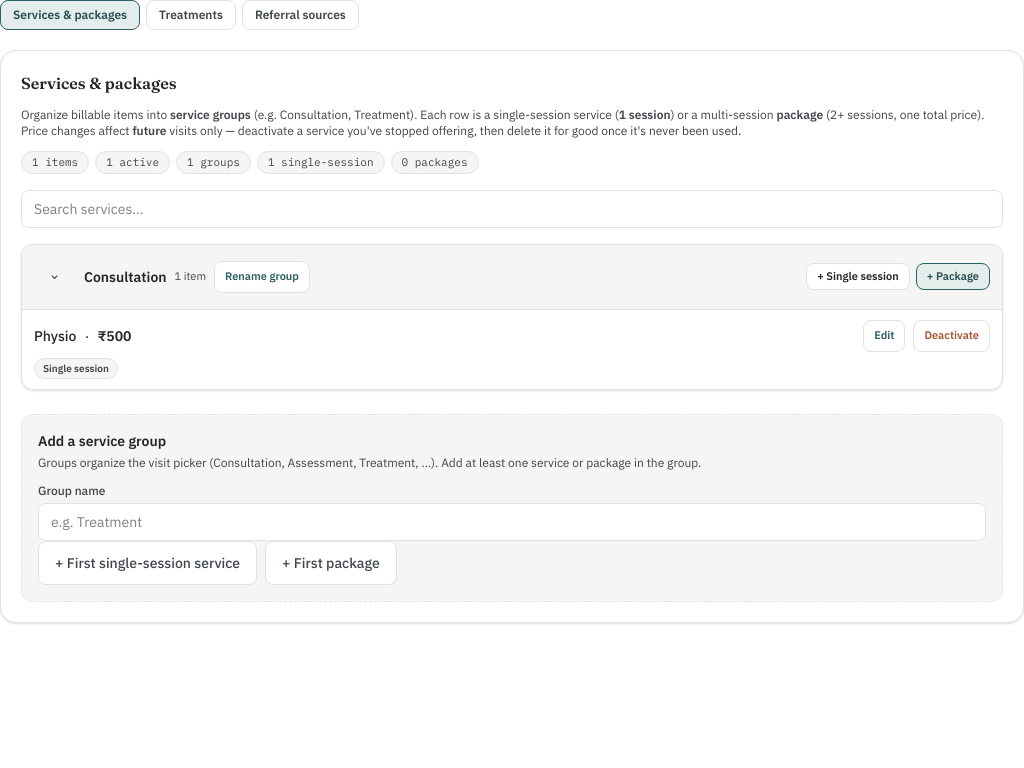
Scenario: ServiceCatalog — optional duration › rejects 2.5 without saving
Click the button "Edit" at (884, 336), box x1=863 y1=320 x2=905 y2=352
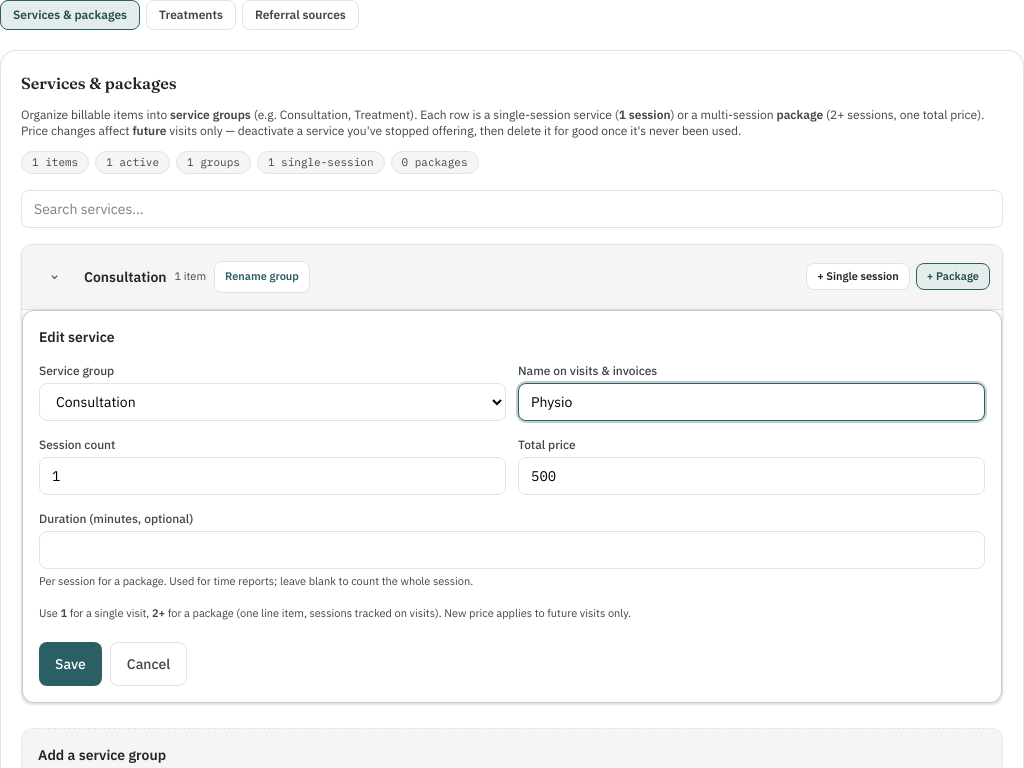
Type "2.5" into the number field labelled "Duration (minutes, optional)" at (512, 550), box x1=39 y1=530 x2=985 y2=568
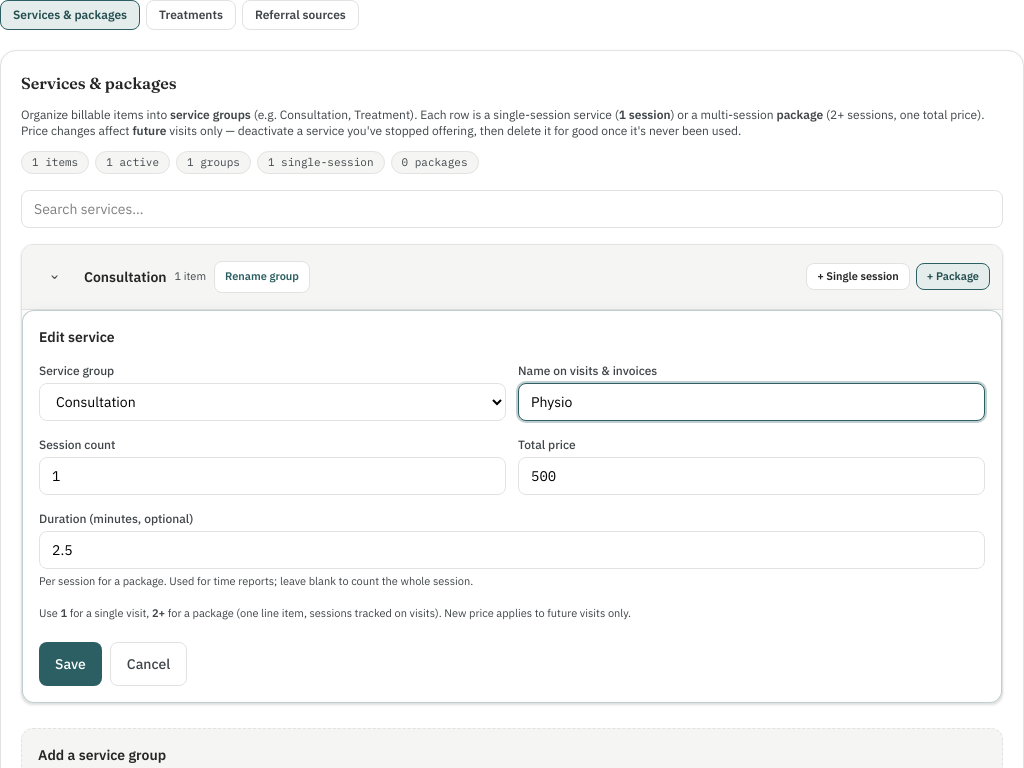
Click the button "Save" at (70, 664), box x1=39 y1=642 x2=102 y2=686
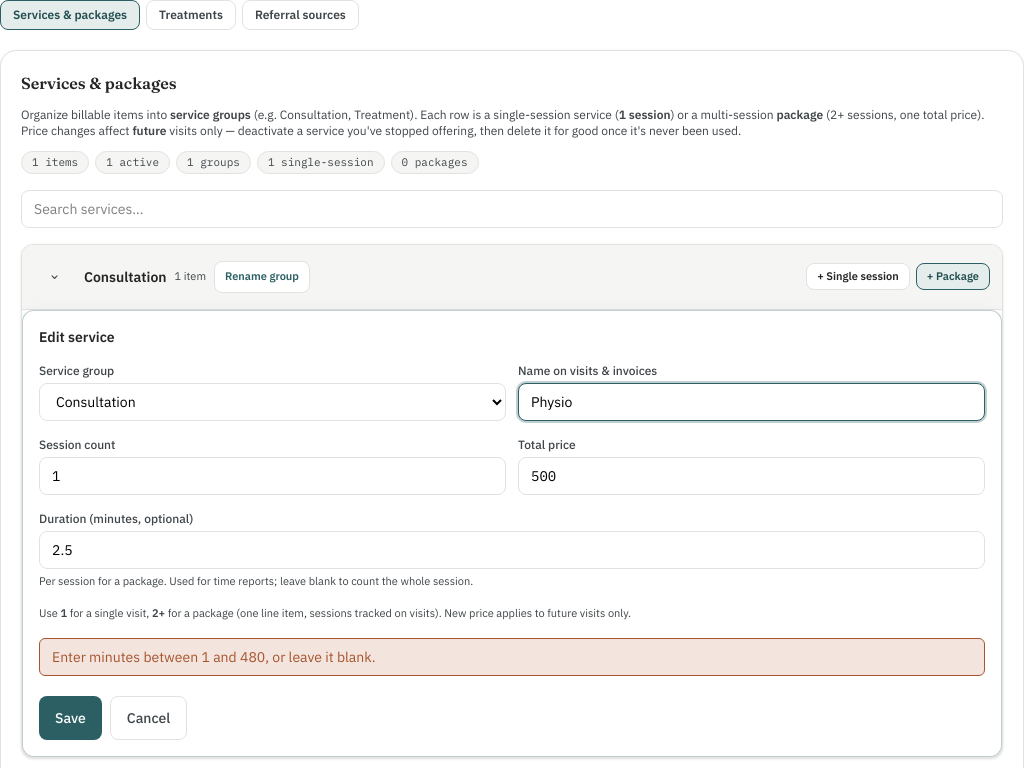
expect the text "Enter minutes between 1 and 480, or leave it blank." is shown: met, box x1=39 y1=638 x2=985 y2=676
